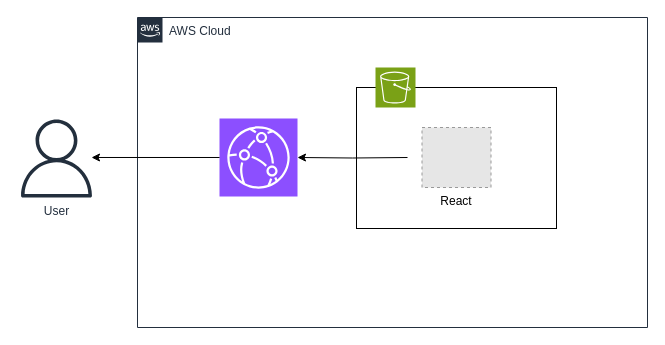
Some shapes in this 665 by 345 pixel diagram are drawn without their labels. Grey dashed boxes stand in for pictures. The centre of each missing label's shape, as x and y in pixels:
"Amazon CloudFront" belongs at (x=258, y=157).
"Amazon S3" belongs at (x=395, y=87).
